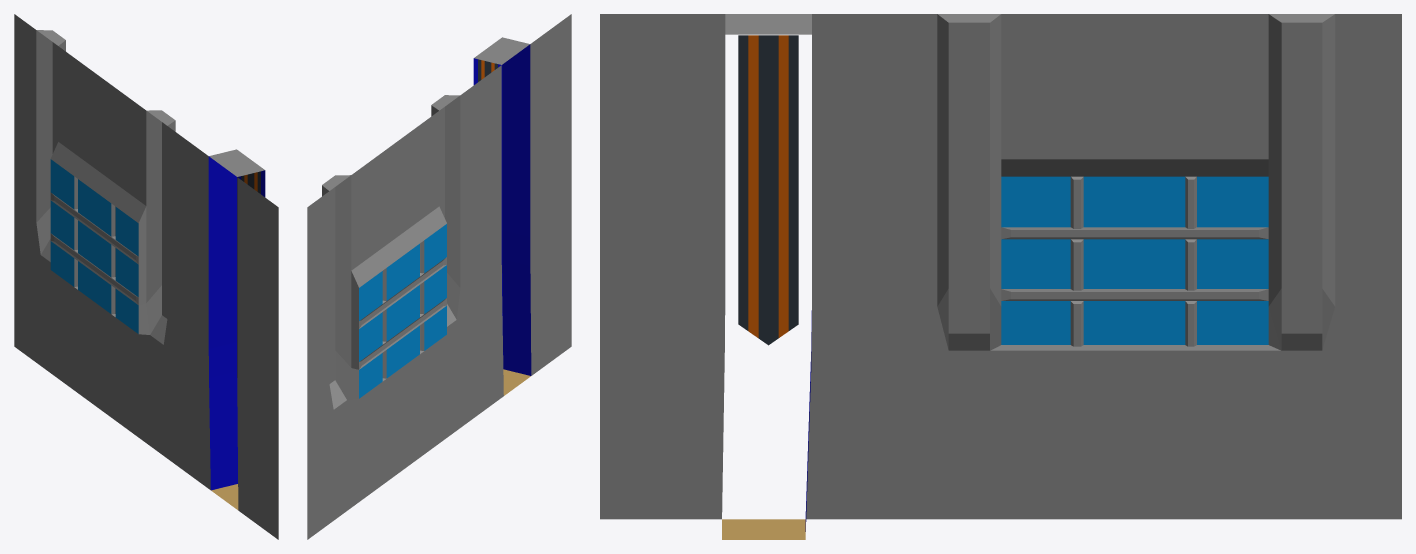
Rendered from PAREDE_INFINITA_ARENA.fbx.
The picture shows the model from 3 angles, left to right: view 1: azimuth 30°, elevation 25°; view 2: azimuth 150°, elevation 25°; view 3: azimuth 270°, elevation 25°; orthographic projection. The views are drawn at different scales.
Visible parts, largest first — view 1: Plane.001; view 2: Plane.001; view 3: Plane.001.
Part boxes in pixels (<box>): Plane.001: <box>14,14,278,539</box>; Plane.001: <box>307,14,571,539</box>; Plane.001: <box>600,14,1401,539</box>.
Size of the model in its own units: 99.26 by 880 by 1266.
